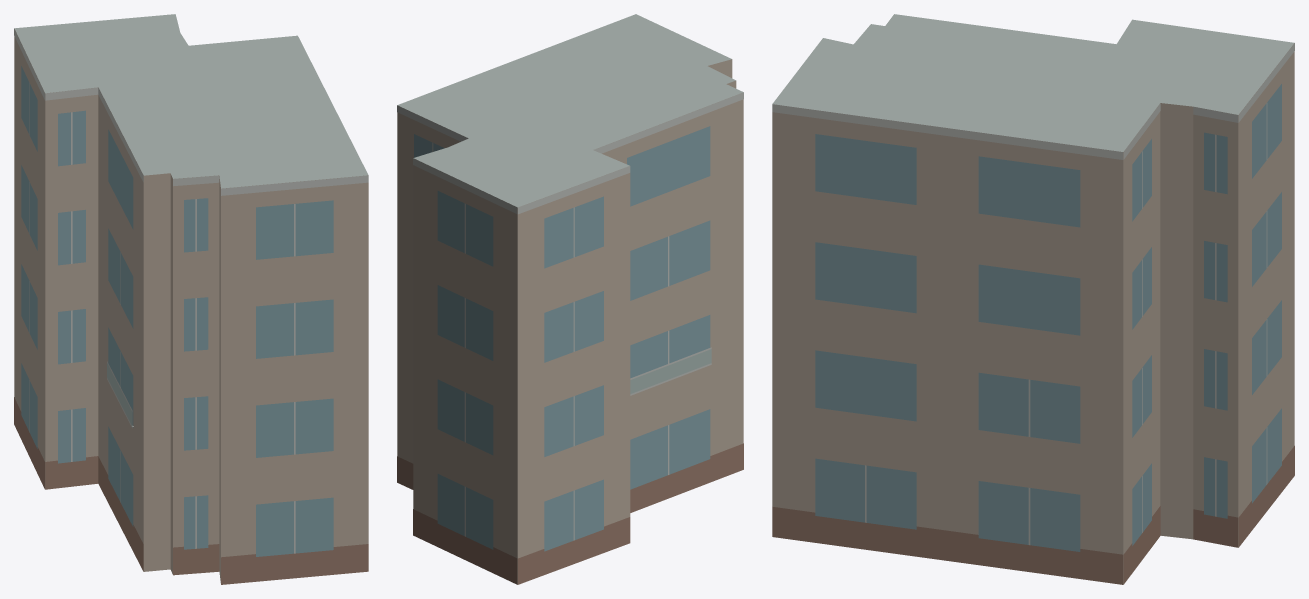
Rendered from survey-upis-32964208.glb.
3 renders of one model, left to right at view 1: azimuth 30°, elevation 25°; view 2: azimuth 150°, elevation 25°; view 3: azimuth 270°, elevation 25°, orthographic. The views are drawn at different scales.
Parts seen in each view (by area): view 1: survey-upis-32964208.tmp; view 2: survey-upis-32964208.tmp; view 3: survey-upis-32964208.tmp.
Boxes of the visible parts, x1,y1,x2,y2 form: survey-upis-32964208.tmp: [14, 14, 368, 584]; survey-upis-32964208.tmp: [397, 14, 743, 584]; survey-upis-32964208.tmp: [772, 14, 1294, 584].
Size of the model in its own units: 9.04 by 13.2 by 14.46.
